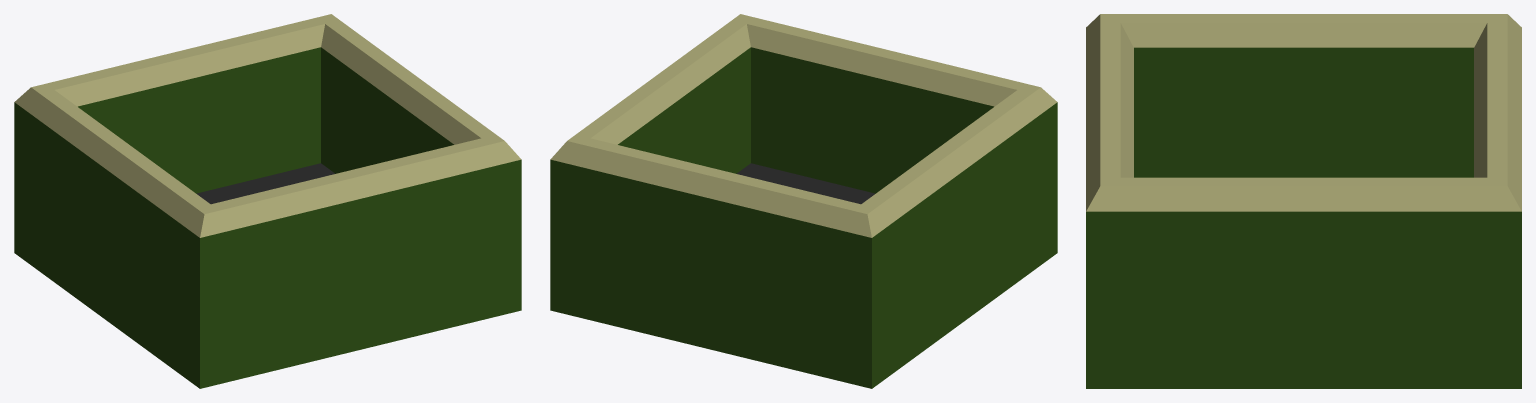
Rendered from Trash.fbx.
3 renders of one model, left to right at view 1: azimuth 30°, elevation 25°; view 2: azimuth 150°, elevation 25°; view 3: azimuth 270°, elevation 25°, orthographic. The views are drawn at different scales.
Parts seen in each view (by area): view 1: Cube; view 2: Cube; view 3: Cube.
Part boxes in pixels (x1,y1,x2,y2): Cube: (14,14,521,388); Cube: (550,14,1057,388); Cube: (1086,14,1521,388).
Bounding box in the file's own units: 200 × 99.64 × 200.
